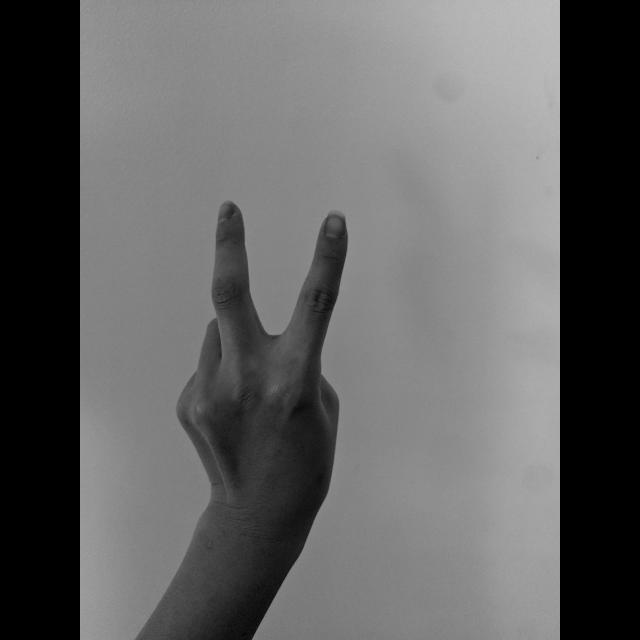V: (171, 198, 353, 526)
